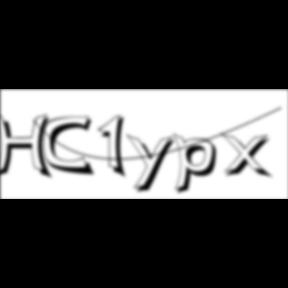1: (98, 114, 132, 182)
C: (42, 115, 97, 178)
H: (1, 112, 58, 182)
p: (174, 132, 224, 198)
x: (222, 132, 276, 181)
y: (126, 132, 180, 196)
